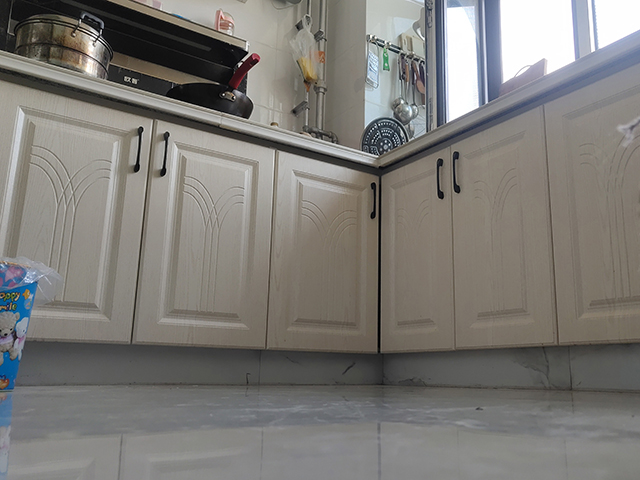cabinet: (1, 49, 388, 392), (379, 31, 640, 394)
trashcan: (1, 258, 42, 392)
